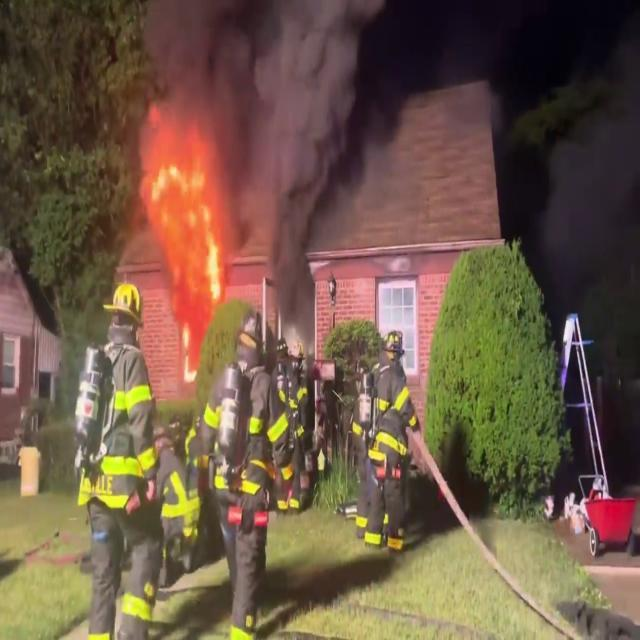Fire: (140, 128, 229, 308)
Smoke: (210, 0, 388, 267), (516, 0, 640, 324)
